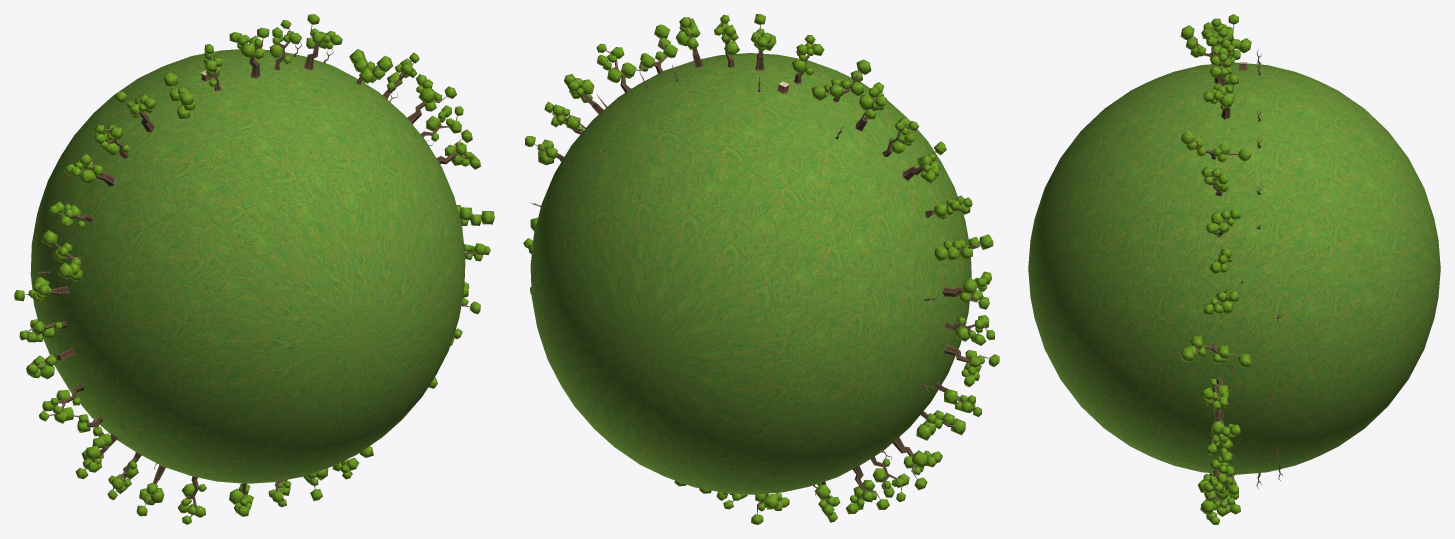
The model's file is Earth.FBX.
The picture shows the model from 3 angles, left to right: view 1: azimuth 30°, elevation 25°; view 2: azimuth 150°, elevation 25°; view 3: azimuth 270°, elevation 25°; orthographic projection. The views are drawn at different scales.
Visible parts, largest first — view 1: GeoSphere003, tree081, tree077, tree072, tree087, tree089, tree086, tree079, tree091, tree073, tree085, tree092 (+13 smaller); view 2: GeoSphere003, tree083, tree087, tree076, tree071, tree077, tree074, tree069, tree072, tree075, tree070, tree079 (+14 smaller); view 3: GeoSphere003, tree063, tree087, tree086, tree115, tree093, tree089, tree083, tree081, tree091, tree096, tree088 (+2 smaller).
Part boxes in pixels (box(x1,y1,x2,y2)): GeoSphere003: box(30, 49, 465, 483); tree081: box(229, 27, 269, 78); tree077: box(41, 230, 83, 281); tree072: box(62, 407, 111, 460); tree087: box(349, 49, 392, 85); tree089: box(407, 74, 456, 124); tree086: box(303, 14, 342, 70); tree079: box(64, 154, 116, 186); tree091: box(436, 129, 480, 169); tree073: box(39, 383, 84, 423); tree085: box(269, 20, 301, 70); tree092: box(420, 105, 463, 141); GeoSphere003: box(530, 53, 971, 494); tree083: box(811, 59, 871, 102); tree087: box(620, 24, 677, 77); tree076: box(942, 271, 991, 309); tree071: box(892, 437, 942, 490); tree077: box(934, 234, 993, 261); tree074: box(944, 343, 999, 387); tree069: box(845, 465, 889, 514); tree072: box(916, 410, 965, 440); tree075: box(945, 315, 995, 345); tree070: box(870, 456, 909, 501); tree079: box(902, 141, 946, 183); GeoSphere003: box(1028, 62, 1440, 474); tree063: box(1180, 336, 1251, 368); tree087: box(1180, 131, 1251, 162); tree086: box(1203, 73, 1238, 119); tree115: box(1206, 409, 1240, 455); tree093: box(1201, 378, 1229, 409); tree089: box(1206, 209, 1240, 237); tree083: box(1180, 25, 1251, 57); tree081: box(1206, 36, 1240, 84); tree091: box(1203, 289, 1238, 314); tree096: box(1203, 450, 1238, 494); tree088: box(1201, 167, 1229, 196).
Bounding box in the file's own units: 5279 × 5331 × 4269.
6 materials, 6 textured.
